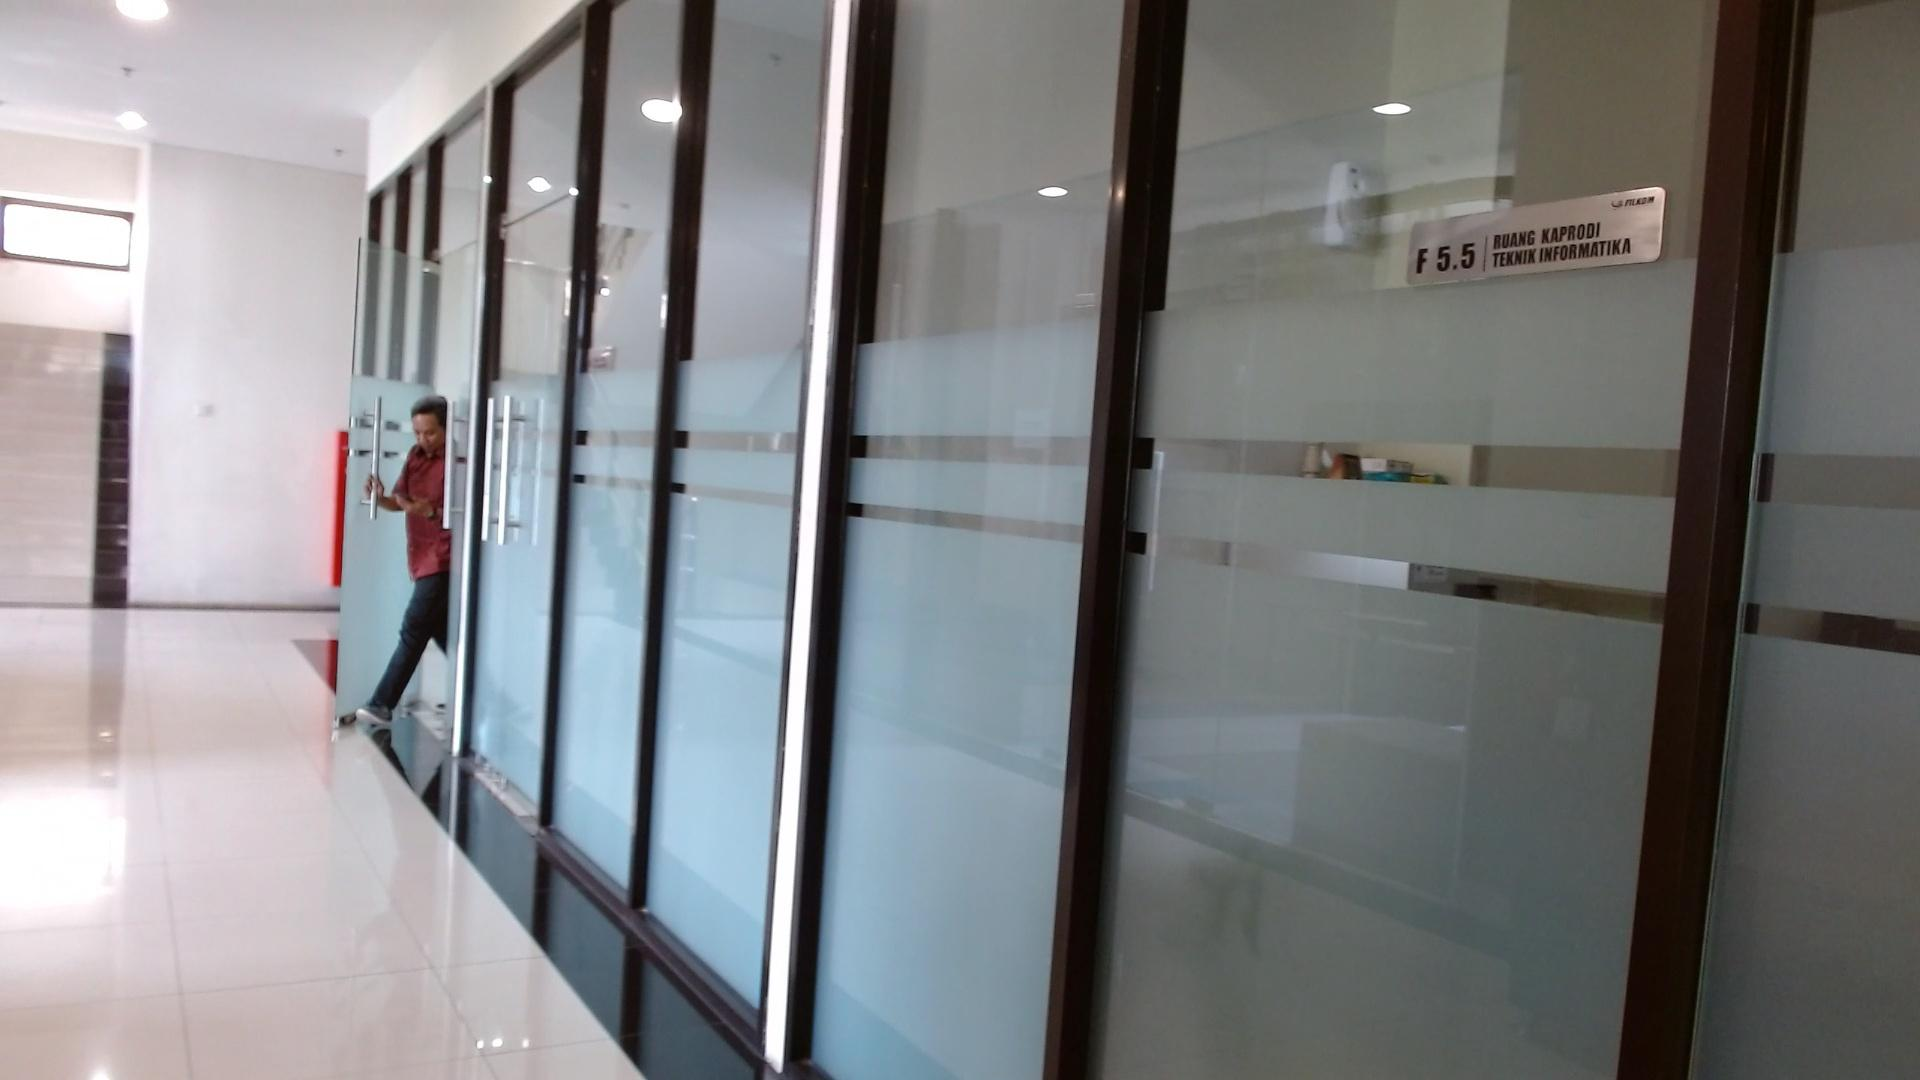plate: (1407, 183, 1667, 285)
